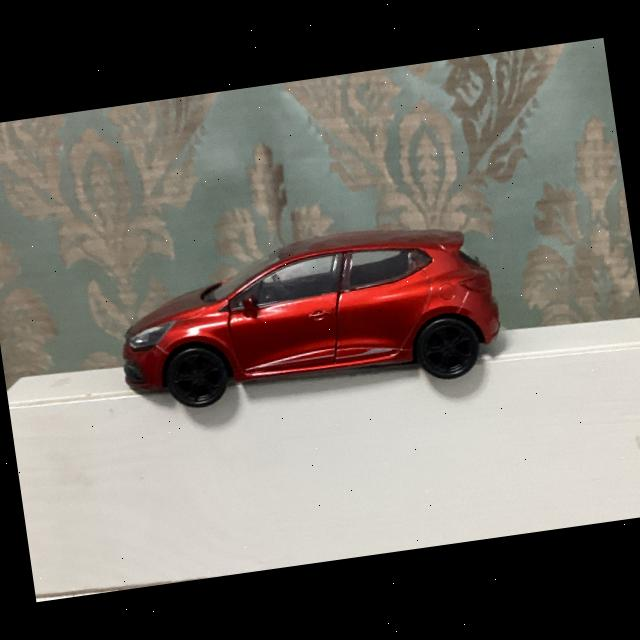Dogru_Jant: (170, 353, 223, 404), (424, 325, 476, 376)
